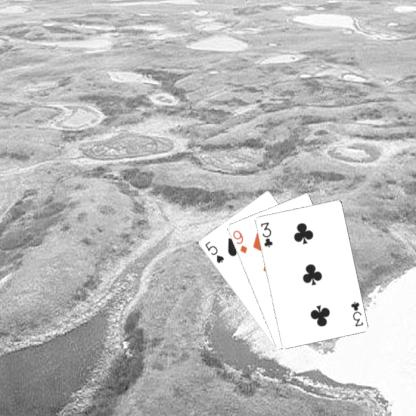3C: (348, 298, 365, 328), (258, 219, 274, 249)
5S: (202, 238, 225, 264)
9D: (230, 227, 249, 255)
